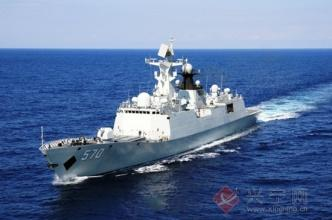warship: (38, 32, 258, 186)
